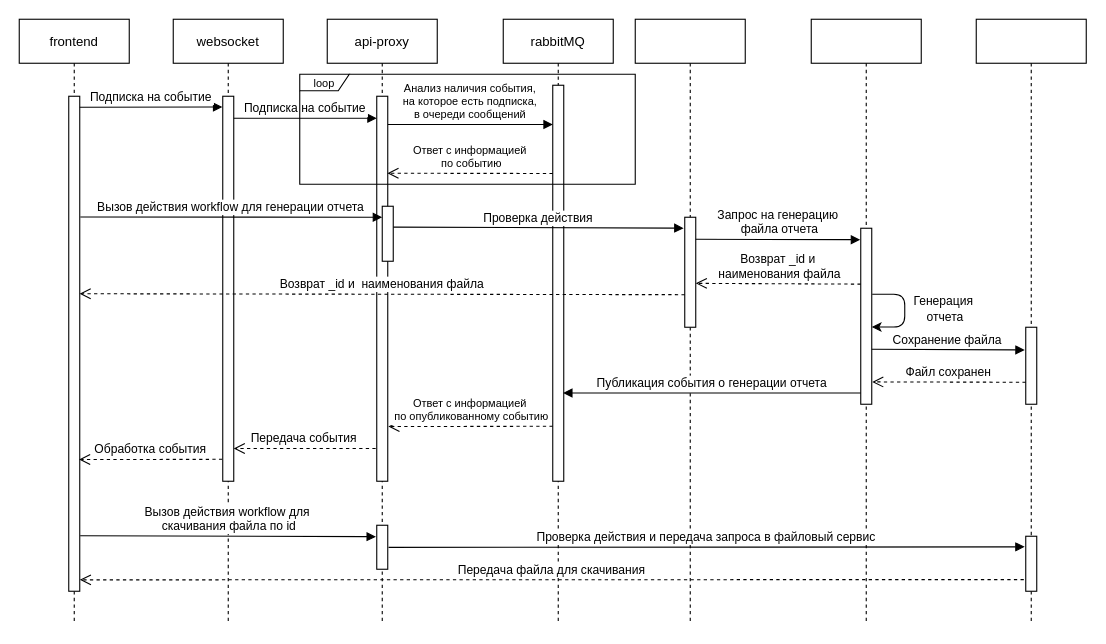
Image size: 1106x644. Some labels were removed from this diagram. The box of each missing label's shape, as (x1, y1, x2, y2) in pixels:
document-service: (810, 18, 921, 624)
file: (975, 18, 1086, 624)
workflow-api: (634, 18, 745, 624)
